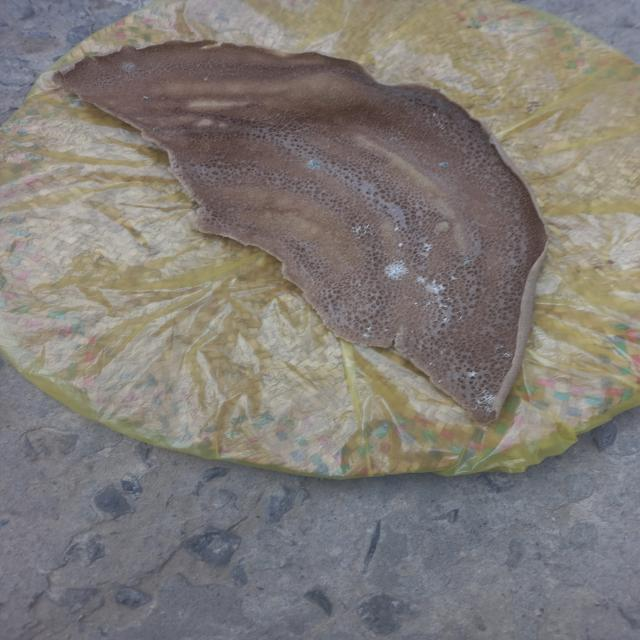injera_mold: (381, 258, 412, 280), (477, 385, 496, 411), (424, 278, 445, 296), (302, 154, 322, 169), (463, 367, 482, 382), (418, 241, 433, 259), (436, 160, 456, 172), (361, 324, 376, 339), (120, 62, 142, 72), (459, 256, 478, 266), (350, 224, 367, 234), (436, 118, 444, 130), (415, 274, 424, 284), (394, 223, 401, 235), (500, 351, 512, 358), (424, 300, 434, 308), (490, 343, 503, 348), (442, 315, 449, 324), (438, 302, 448, 308), (389, 136, 399, 142), (382, 326, 389, 334), (369, 222, 376, 230), (397, 241, 403, 250), (447, 297, 455, 303), (429, 361, 437, 367), (302, 243, 310, 249), (141, 96, 152, 100), (458, 315, 465, 321), (439, 349, 446, 355), (391, 207, 398, 213), (413, 300, 419, 306), (477, 184, 483, 190), (438, 378, 443, 384), (431, 112, 437, 117), (374, 247, 380, 252), (418, 344, 423, 350), (449, 276, 456, 280), (204, 75, 208, 82), (440, 310, 448, 313), (433, 318, 439, 322), (456, 310, 462, 314), (379, 215, 385, 219), (410, 330, 416, 334), (369, 232, 375, 236), (442, 262, 450, 265), (355, 218, 360, 222), (356, 235, 361, 239), (344, 261, 349, 265), (437, 273, 442, 277), (461, 236, 465, 241), (356, 284, 362, 287), (356, 254, 362, 257), (382, 253, 388, 256), (152, 126, 156, 130), (363, 261, 367, 265), (488, 266, 492, 270), (345, 206, 351, 208), (390, 256, 395, 258)
